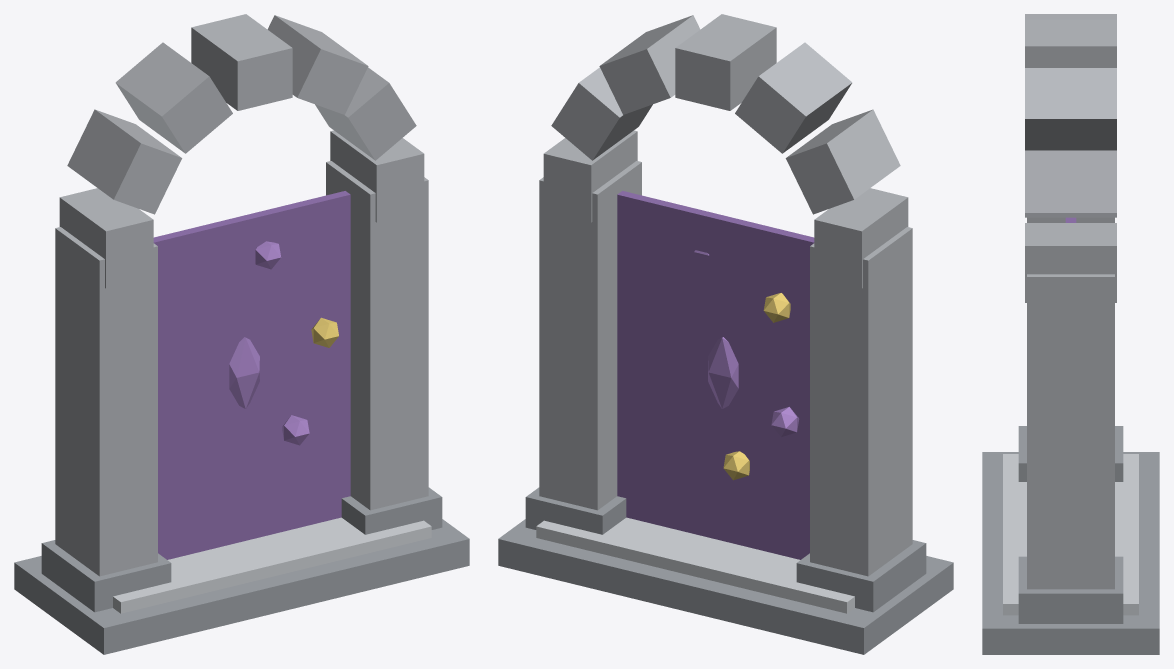
The model's file is animprop_portal_07.glb.
3 views of the same model, side by side, from view 1: azimuth 30°, elevation 25°; view 2: azimuth 150°, elevation 25°; view 3: azimuth 270°, elevation 25° (orthographic).
Visible parts, largest first — view 1: animprop; view 2: animprop; view 3: animprop.
Boxes of the visible parts, bbox=[...] form: animprop: bbox=[14, 14, 469, 654]; animprop: bbox=[498, 14, 953, 654]; animprop: bbox=[982, 14, 1159, 654].
Size of the model in its own units: 2 by 2.82 by 0.85.
